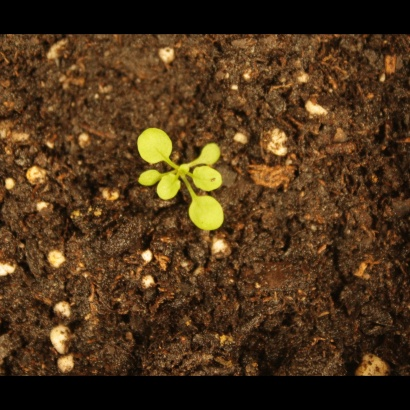leaf: (131, 128, 177, 166), (187, 194, 226, 234), (191, 165, 226, 196), (156, 174, 184, 201), (200, 139, 223, 168), (138, 166, 161, 189)
